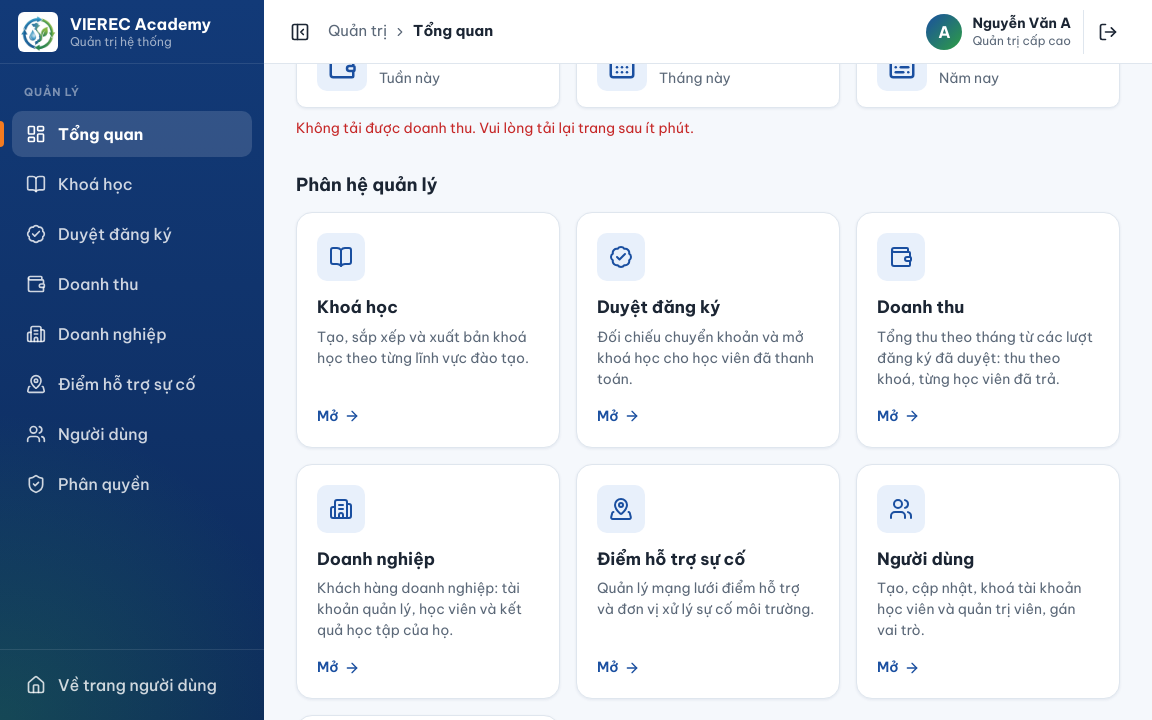
Test case: AdminLayout › collapses the sidebar and remembers it
(page scrolled)
# Nút thu gọn chỉ hiện ở desktop (jsdom coi như màn hẹp → display: none).
What coordinates should you click on to do the following:
click the button named "Thu gọn menu"
I would click on:
 (300, 32)
Its box is [280,12,320,52].
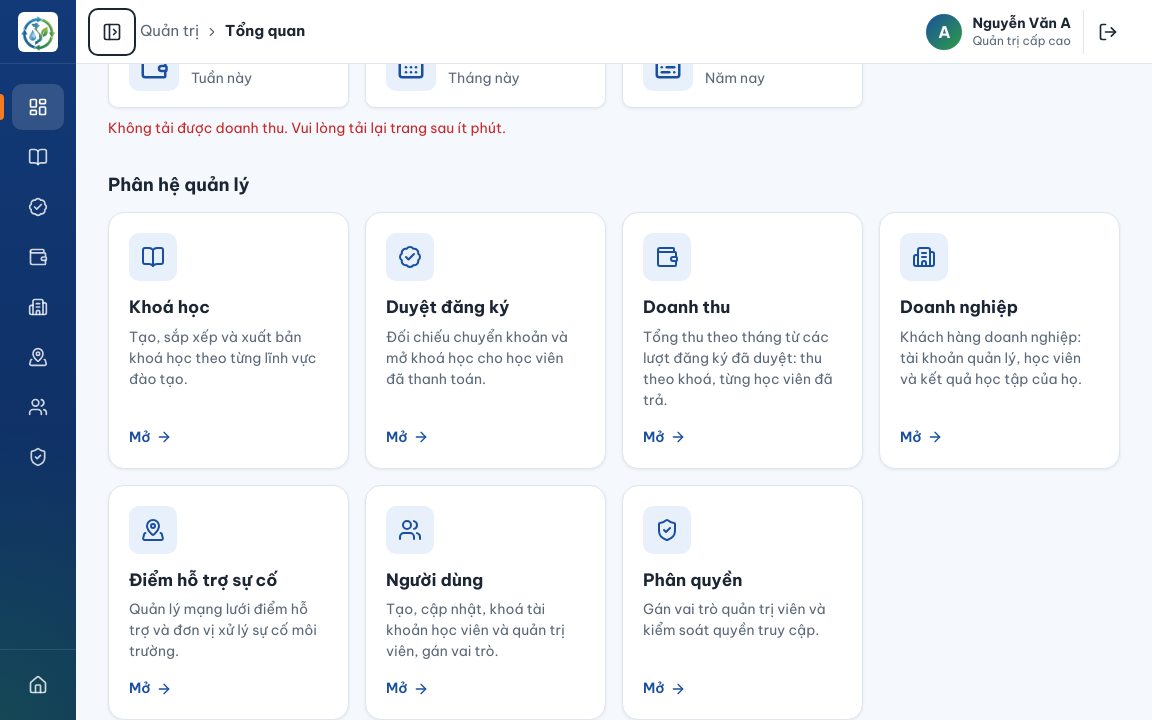
Check: the button named "Mở rộng menu" is collapsed, box [92,12,132,52]
